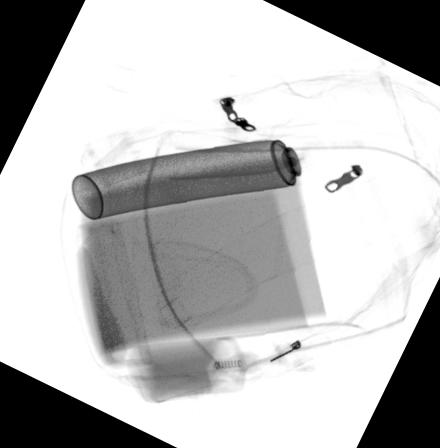Sprayer: (69, 133, 335, 221)
